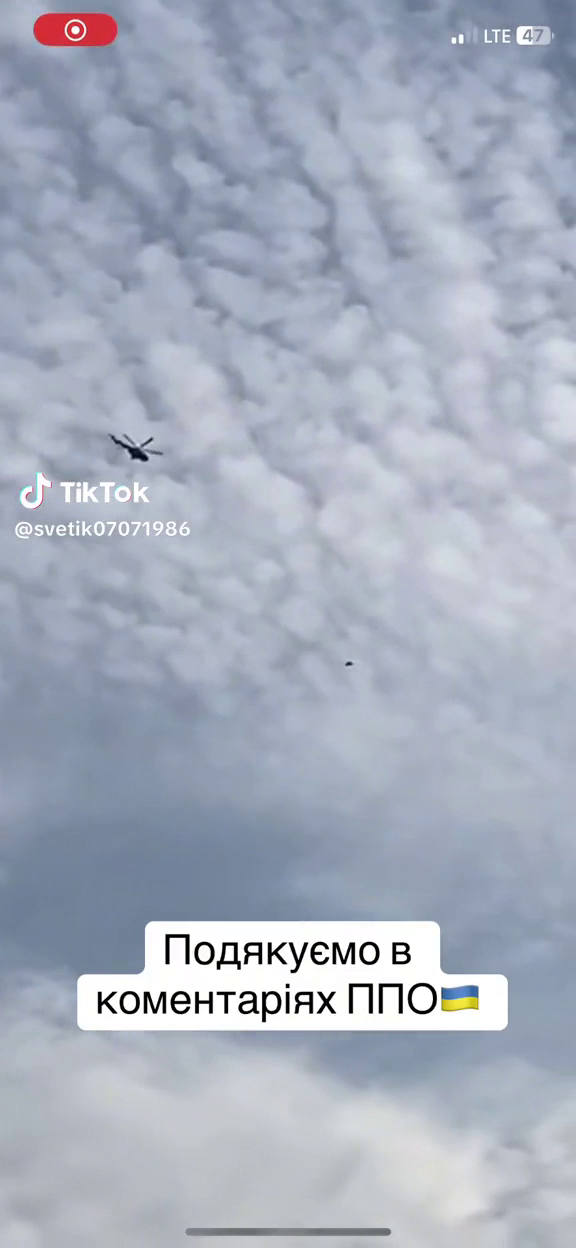not_drone: (105, 428, 165, 466)
